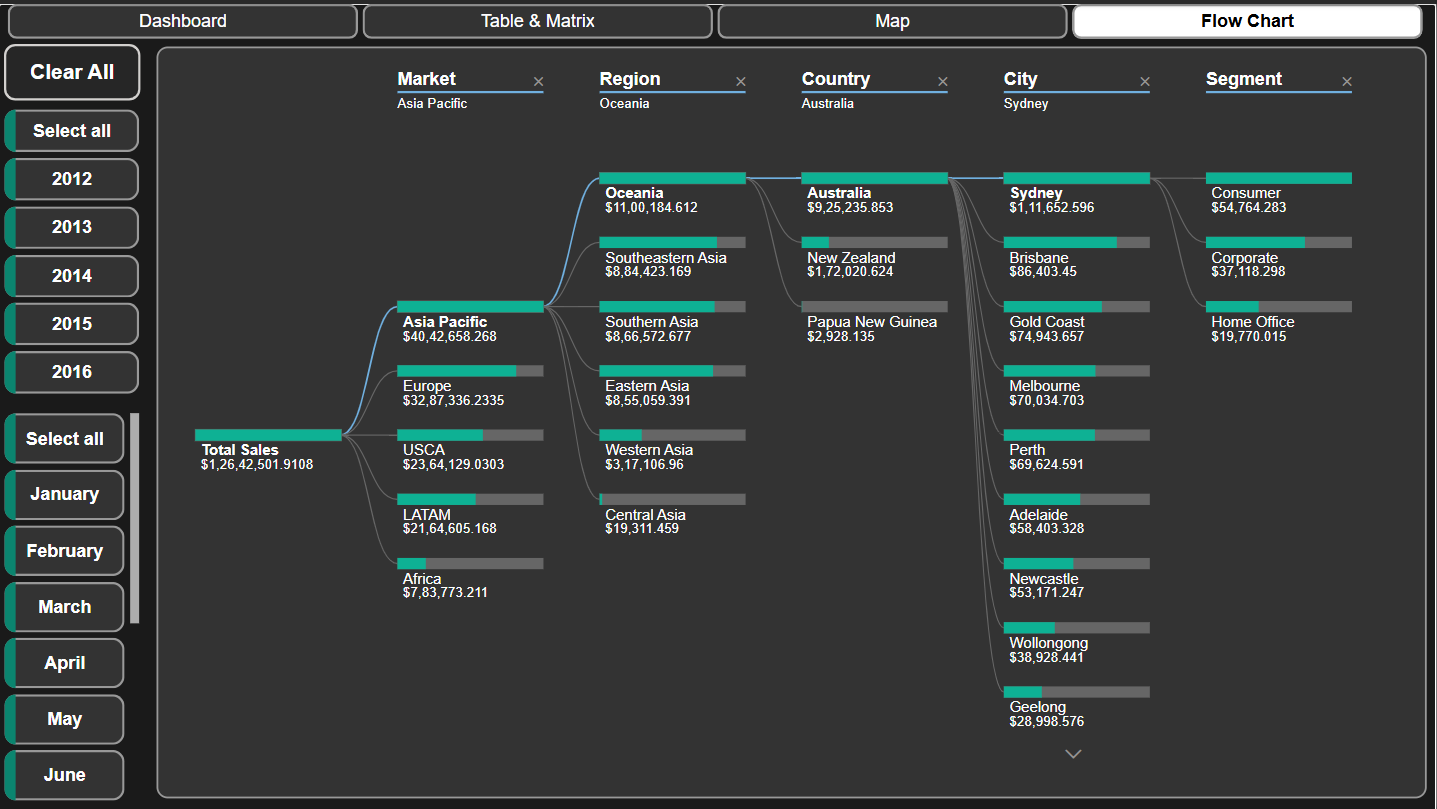

The page's visual inventory and layout, read from the dashboard file:
{"tool":"powerbi","page":{"name":"Sales Breakdown","canvas":[1280,720],"ordinal":3},"visuals":[{"type":"pageNavigator","box":[8.1,0,1263.8,31.9],"z":0},{"type":"actionButton","box":[4.9,35.6,121.5,50.3],"z":1000},{"type":"advancedSlicerVisual","fields":{"Values":["Dim_Date.Year"]},"box":[0,89.6,130.1,263.8],"z":1500},{"type":"advancedSlicerVisual","fields":{"Values":["Dim_Date.Date.Variation.Date Hierarchy.Month"]},"box":[0,359.5,130.1,357.1],"z":1750},{"type":"decompositionTreeVisual","fields":{"ExplainBy":["Dim_Customers.Market","Dim_Customers.Region","Dim_Customers.Country","Dim_Customers.City","Dim_Customers.Segment"],"Analyze":["_Measures.Total Sales"]},"box":[139.9,38,1131.3,669.9],"z":2000}]}

Visuals, with their boxes in screenshot pixels (x1, y1, x2, y2), scaled from the page's 1280x720 canvas onto the 1437x809 screenshot:
pageNavigator: 9:0:1428:36
actionButton: 6:40:142:97
advancedSlicerVisual - Dim_Date.Year: 0:101:146:397
advancedSlicerVisual - Dim_Date.Date.Variation.Date Hierarchy.Month: 0:404:146:805
decompositionTreeVisual - Dim_Customers.Market x Dim_Customers.Region: 157:43:1427:795
